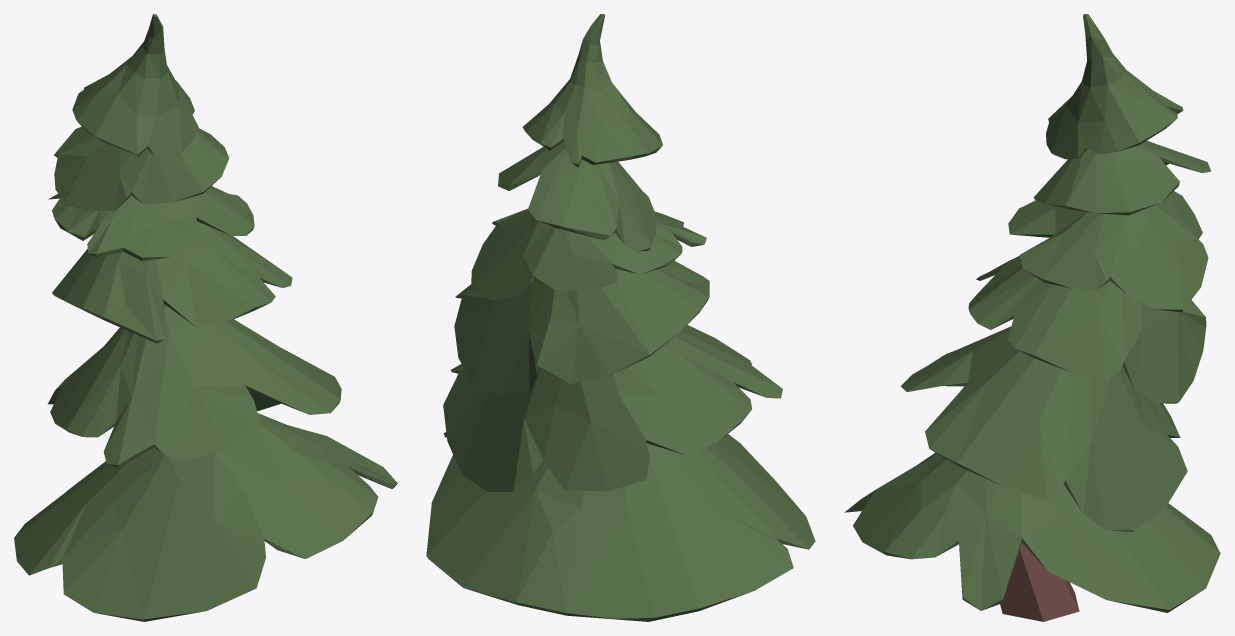
Rendered from PineTree_3.lod1.glb.
The picture shows the model from 3 angles, left to right: view 1: azimuth 30°, elevation 25°; view 2: azimuth 150°, elevation 25°; view 3: azimuth 270°, elevation 25°; orthographic projection. The views are drawn at different scales.
Visible parts, largest first — view 1: PineTree_3; view 2: PineTree_3; view 3: PineTree_3.
Boxes of the visible parts, left/top/right/bottom form: PineTree_3: left=14, top=14, right=397, bottom=621; PineTree_3: left=426, top=14, right=815, bottom=621; PineTree_3: left=844, top=14, right=1220, bottom=621.
Size of the model in its own units: 2.15 by 3.3 by 1.95.
